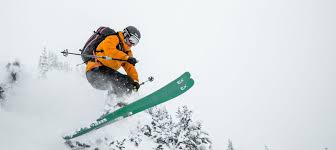skis: (63, 72, 195, 141)
